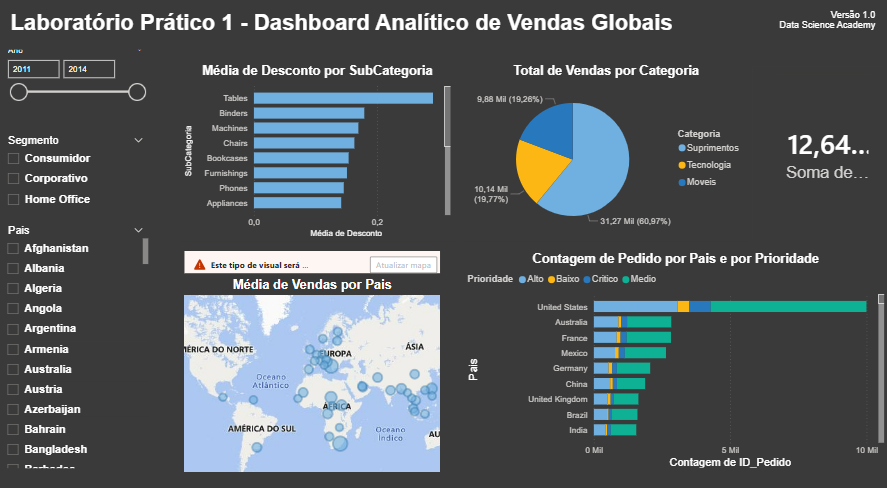

The page's visual inventory and layout, read from the dashboard file:
{"tool":"powerbi","page":{"name":"Página 1","canvas":[1280,720],"ordinal":0},"visuals":[{"type":"cardVisual","fields":{"Data":["Sum(dataset.Total_Vendas)"]},"box":[1080,102.4,200.5,257.6],"z":0},{"type":"pieChart","title":"Total de Vendas por Categoria","fields":{"Category":["dataset.Categoria"],"Y":["CountNonNull(dataset.ID_Pedido)"]},"box":[670.2,102.5,409.9,257],"z":1000},{"type":"barChart","title":"Contagem de Pedido por Pais e por Prioridade","fields":{"Category":["dataset.Pais"],"Y":["CountNonNull(dataset.ID_Pedido)"],"Series":["dataset.Prioridade"]},"box":[670.2,372.9,609.8,317.5],"z":2000},{"type":"clusteredBarChart","fields":{"Category":["dataset.SubCategoria"],"Y":["Avg(dataset.Desconto)"]},"box":[262,102.5,393.1,257],"z":3000},{"type":"map","title":"Média de Vendas por Pais","fields":{"Category":["dataset.Pais"],"Size":["Avg(dataset.Total_Vendas)"]},"box":[262,372.9,378,317.5],"z":4000},{"type":"slicer","fields":{"Values":["dataset.Pais"]},"box":[0,329.2,220.1,361.2],"z":5000},{"type":"slicer","fields":{"Values":["dataset.Segmento"]},"box":[0,199.9,220.1,129.3],"z":6000},{"type":"slicer","fields":{"Values":["dataset.Data_Pedido.Variation.Hierarquia de datas.Ano"]},"box":[0,72.2,220.1,107.5],"z":7000},{"type":"textbox","box":[11.7,20.5,1008.3,62.9],"z":7001},{"type":"textbox","box":[976,20.2,290.6,63.8],"z":7002}]}

Visuals, with their boxes in screenshot pixels (x1, y1, x2, y2), scaled from the page's 1280x720 canvas onto the 887x488 screenshot:
cardVisual - Sum(dataset.Total_Vendas): (left=748, top=69, right=886, bottom=244)
"Total de Vendas por Categoria" pieChart: (left=464, top=69, right=748, bottom=244)
"Contagem de Pedido por Pais e por Prioridade" barChart: (left=464, top=253, right=886, bottom=468)
clusteredBarChart - dataset.SubCategoria x Avg(dataset.Desconto): (left=182, top=69, right=454, bottom=244)
"Média de Vendas por Pais" map: (left=182, top=253, right=444, bottom=468)
slicer - dataset.Pais: (left=0, top=223, right=153, bottom=468)
slicer - dataset.Segmento: (left=0, top=135, right=153, bottom=223)
slicer - dataset.Data_Pedido.Variation.Hierarquia de datas.Ano: (left=0, top=49, right=153, bottom=122)
textbox: (left=8, top=14, right=707, bottom=57)
textbox: (left=676, top=14, right=878, bottom=57)
